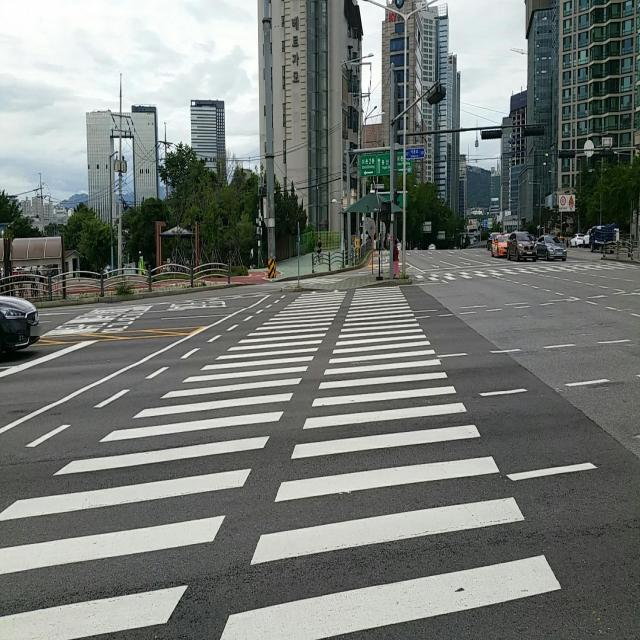횡단보도: (0, 284, 563, 639), (411, 258, 640, 283)
